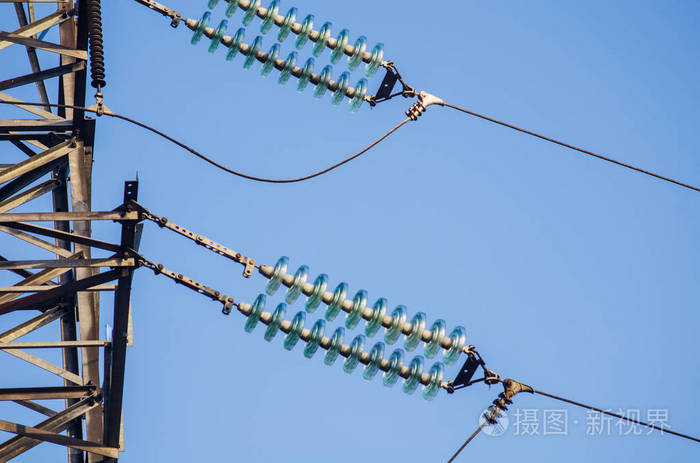insulator: (245, 258, 467, 402), (191, 2, 385, 113)
